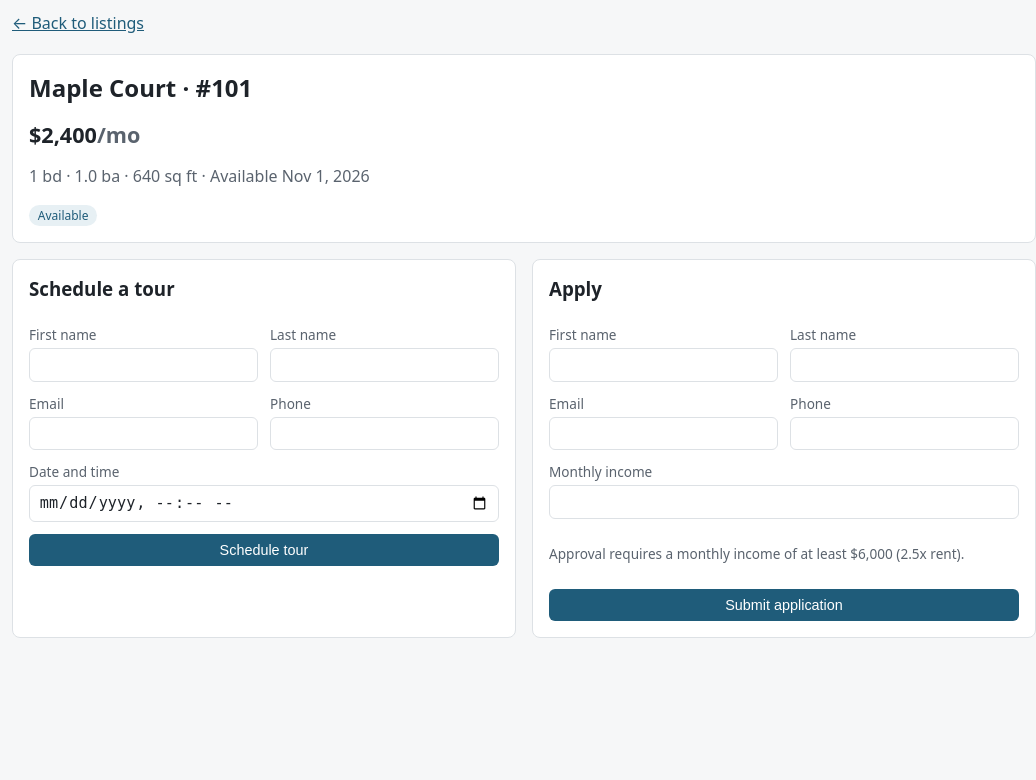
Test: UnitDetailPage › warns when income is below 2.5x rent
The width and height of the screenshot is (1036, 780).
Check: the text "at least $6,000" is shown, box [549,544,1019,563]
Type "5000" into the number field labelled "Monthly income".
click(784, 502); type("5000")  # box [549,485,1019,518]
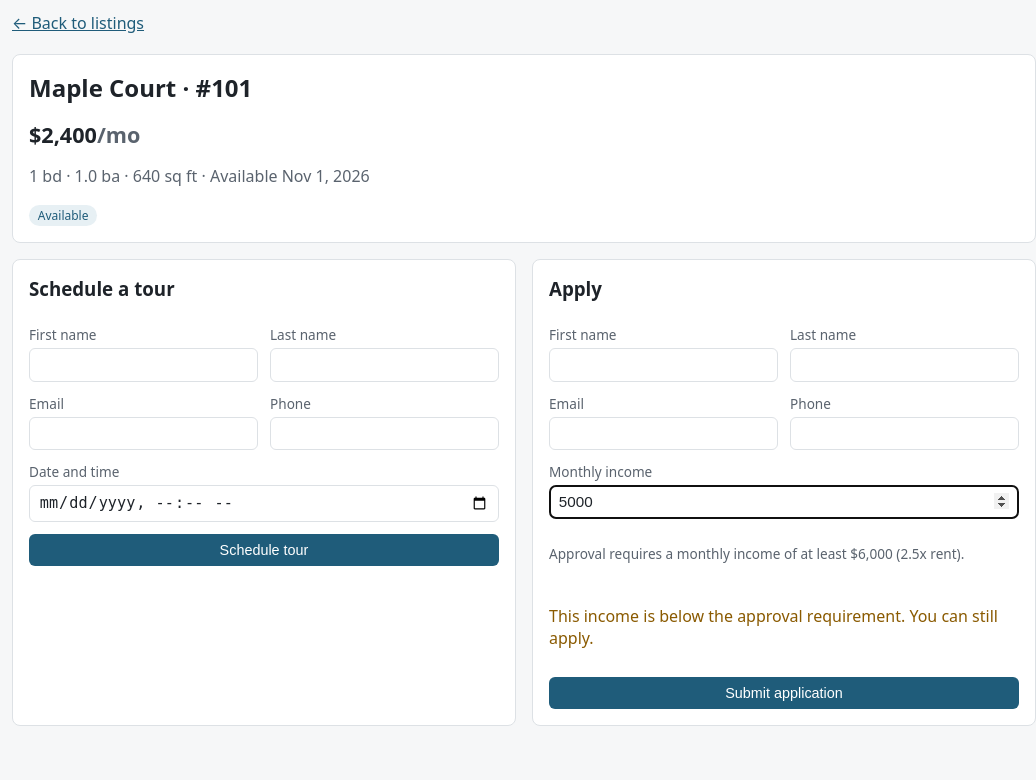
Check: the text "below the approval requirement" is shown, box [549,605,998,649]
